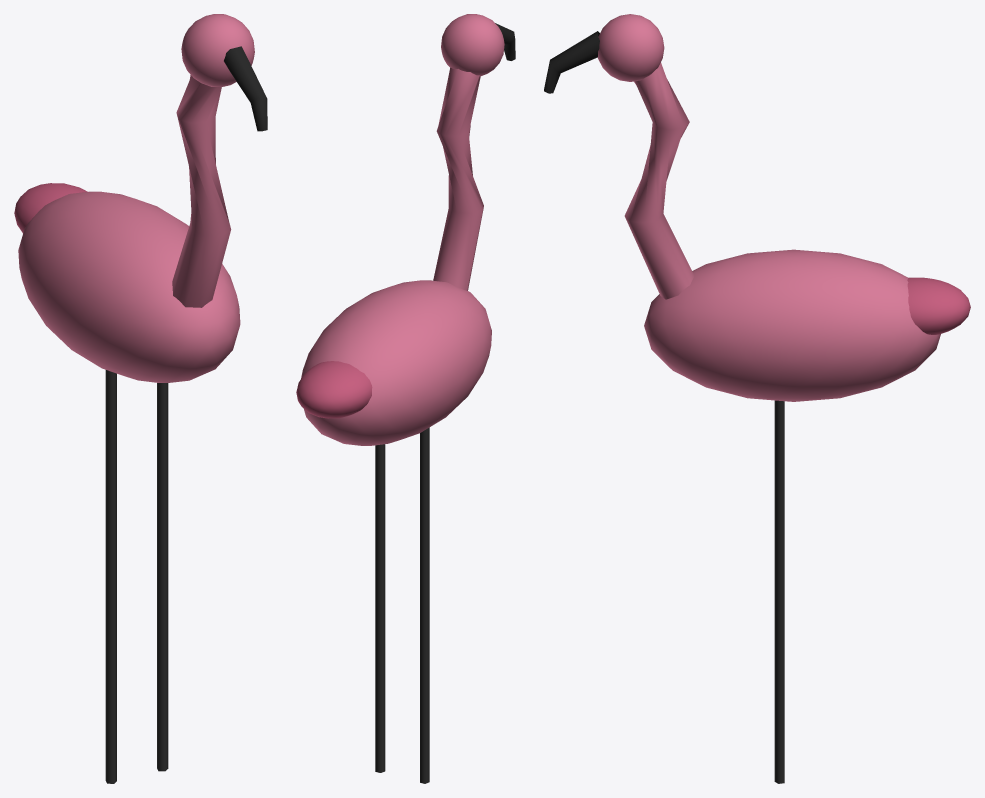
File: flamingo.glb
The picture shows the model from 3 angles, left to right: view 1: azimuth 30°, elevation 25°; view 2: azimuth 150°, elevation 25°; view 3: azimuth 270°, elevation 25°; orthographic projection. The views are drawn at different scales.
Parts seen in each view (by area): view 1: flamingo_main; view 2: flamingo_main; view 3: flamingo_main.
Boxes of the visible parts, box(x1,y1,x2,y2) form: flamingo_main: box(14, 14, 267, 783); flamingo_main: box(296, 14, 515, 783); flamingo_main: box(544, 14, 970, 783).
Size of the model in its own units: 0.24 by 1.22 by 0.6267.
